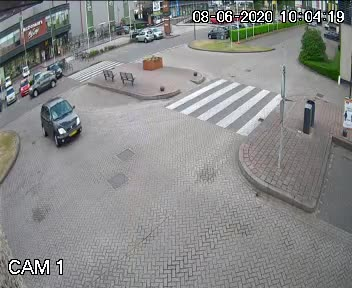car: (35, 95, 91, 146)
